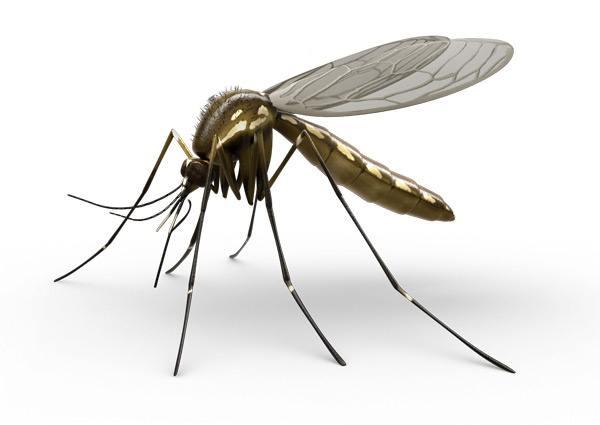mosquito: (49, 29, 525, 381)
